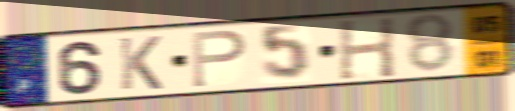5: (257, 22, 314, 85)
6: (55, 38, 106, 97)
8: (402, 12, 461, 77)
H: (336, 15, 397, 82)
K: (116, 34, 165, 92)
P: (189, 28, 249, 90)
